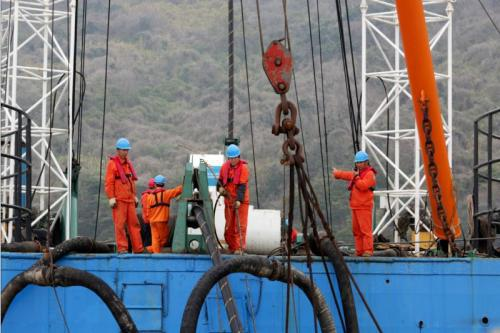helmet: (223, 141, 242, 167), (350, 148, 371, 171), (114, 136, 131, 159), (154, 172, 168, 191)
